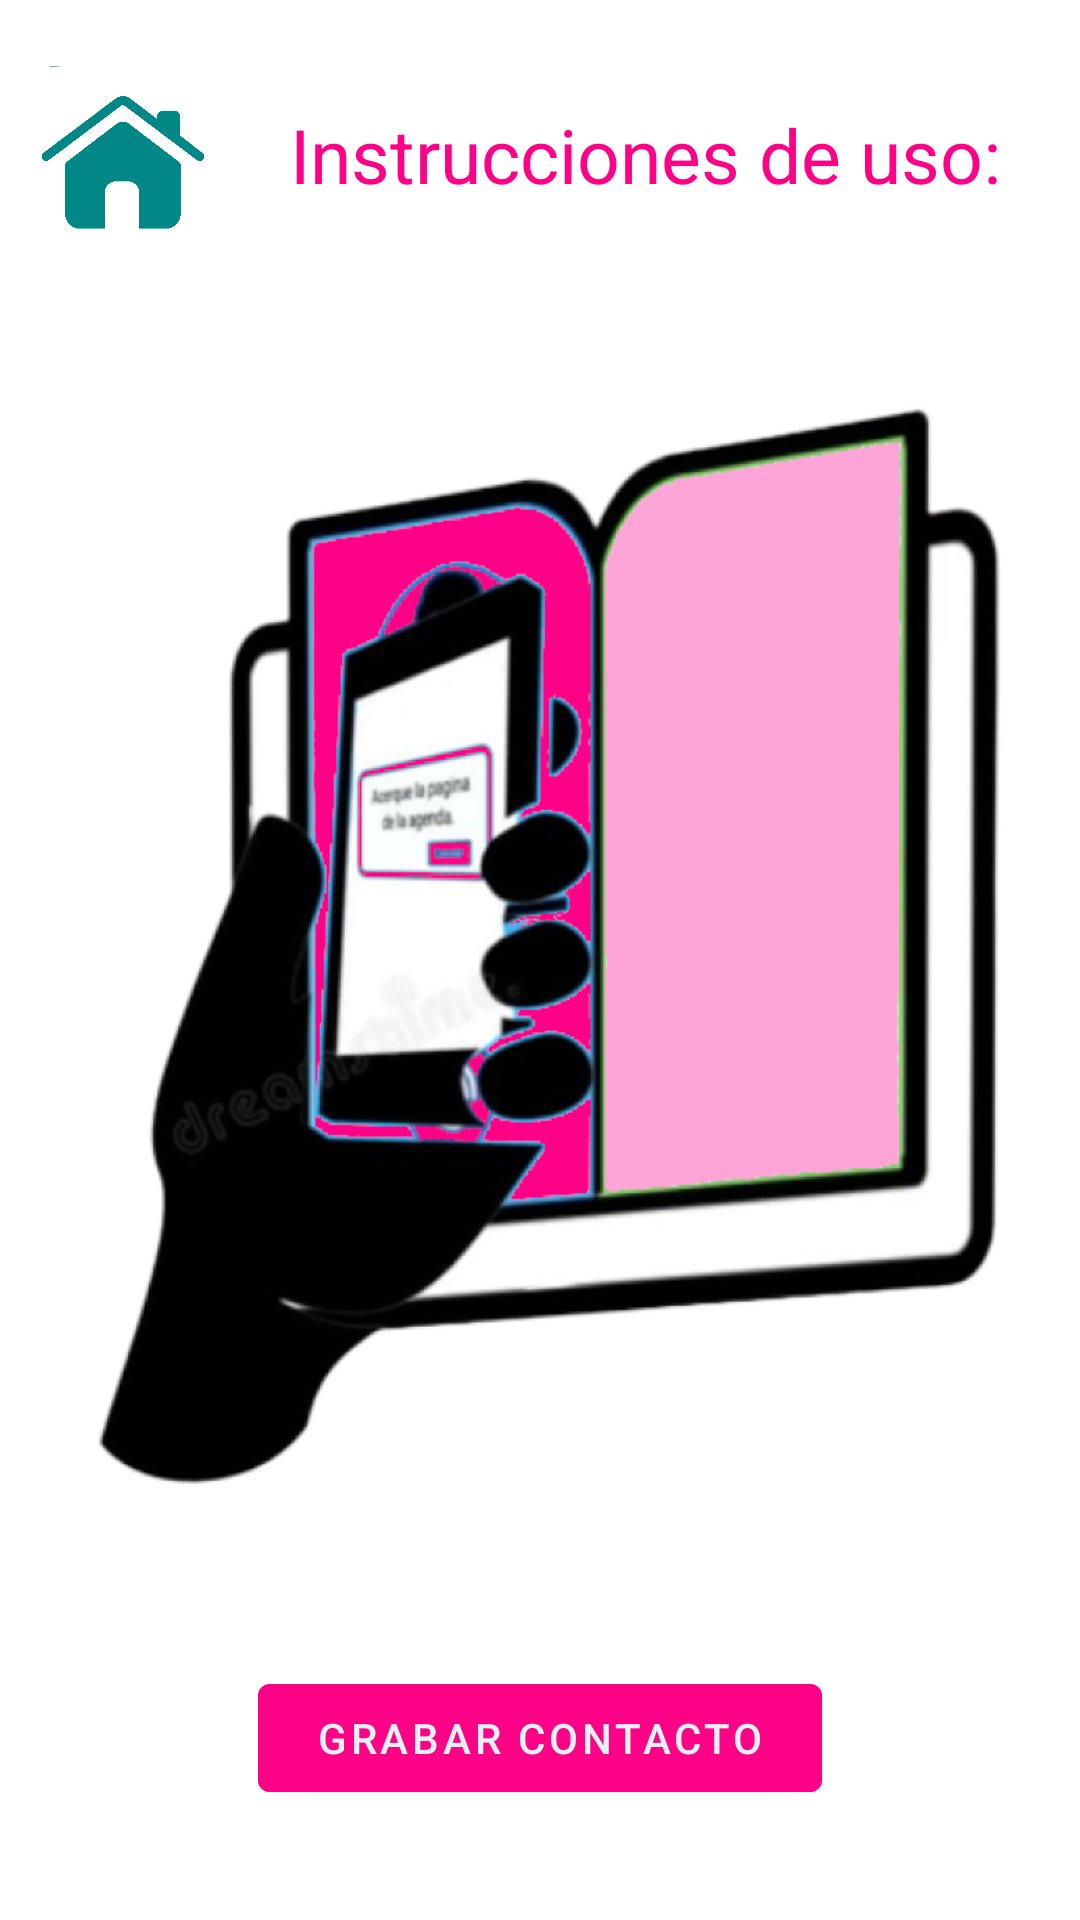

Screen size 1080 × 1920. Icon name, then its box in pixels as {"x1": x1, "y1": y1, "x2": x2, "y2": y2}:
home: {"x1": 42, "y1": 66, "x2": 204, "y2": 229}
